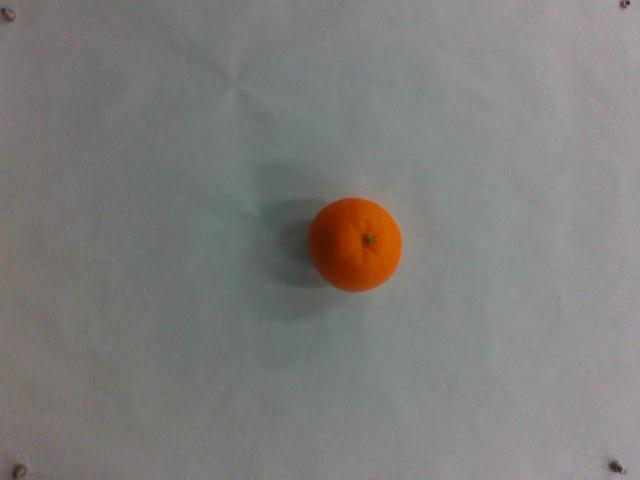orange: (309, 197, 402, 294)
